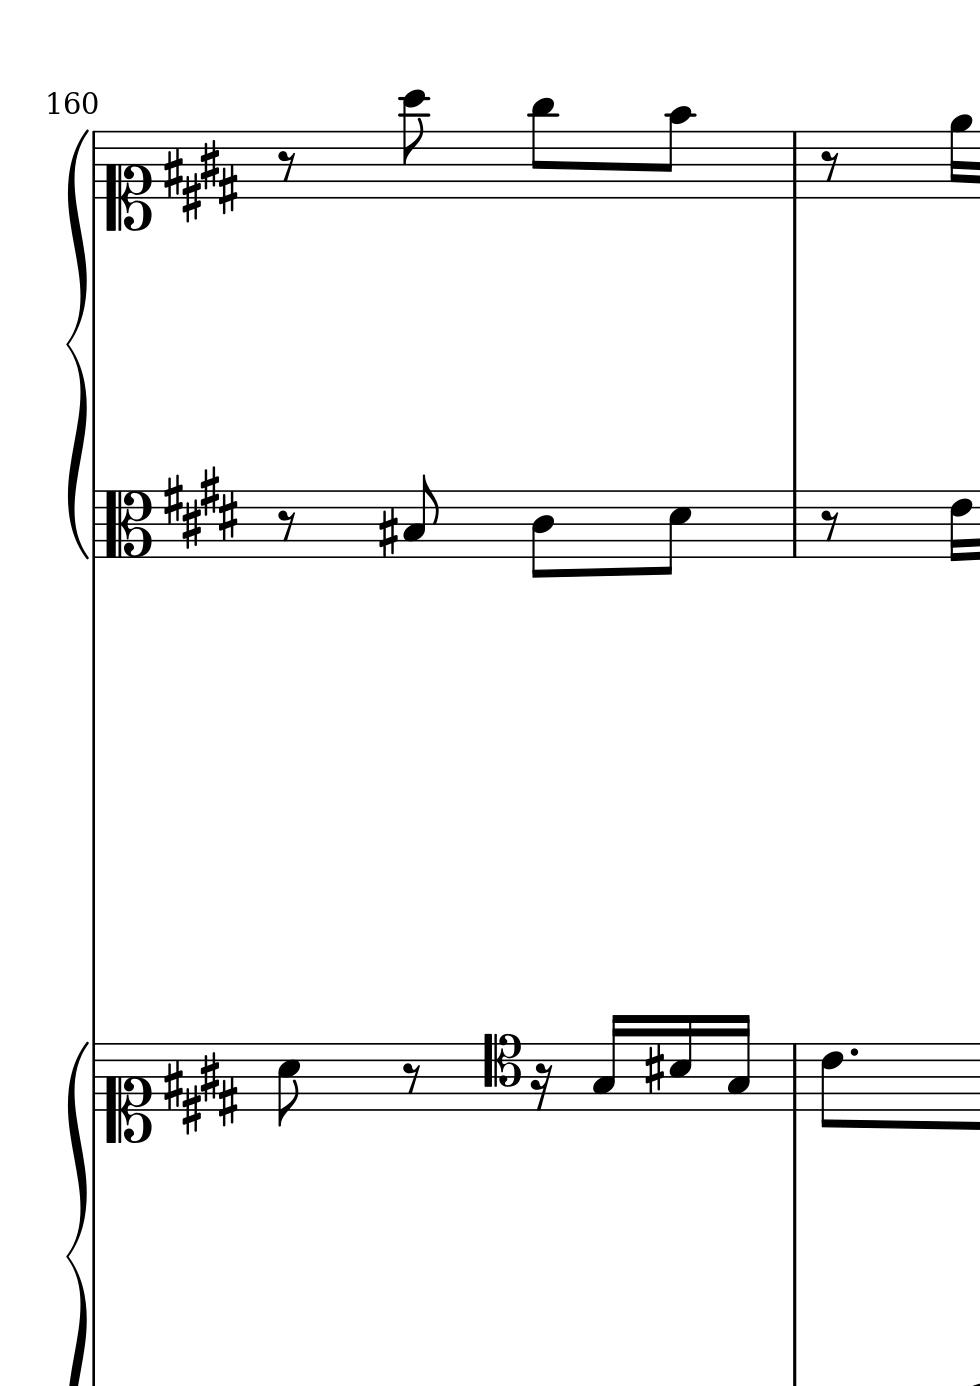0: (81, 88, 99, 118)
1: (46, 89, 60, 119)
16_3: (590, 1013, 623, 1113), (727, 1013, 752, 1112)
16_5: (668, 1012, 694, 1113)
16_6: (948, 488, 974, 563)
16_9: (947, 111, 972, 201)
6: (62, 89, 80, 118)
8_10: (655, 105, 693, 201)
8_11: (527, 95, 558, 201)
8_12: (399, 87, 428, 203)
8_3: (402, 472, 440, 558)
8_4: (529, 488, 554, 581)
8_5: (659, 488, 692, 577), (276, 1041, 301, 1127)
8_6: (819, 1041, 844, 1130)
Brace: (63, 120, 87, 564)
Cclef: (102, 488, 153, 560)
E_S: (163, 135, 238, 224), (163, 1051, 238, 1135), (163, 466, 235, 550)
Rests16: (529, 1062, 554, 1113)
Rests8: (817, 507, 840, 544), (274, 148, 296, 183), (400, 1060, 422, 1095), (275, 507, 296, 542), (819, 150, 840, 182)
Sharp: (642, 1043, 665, 1095), (375, 506, 398, 558)
Single_barline: (785, 131, 803, 198), (785, 491, 803, 557), (786, 1043, 803, 1111), (87, 1043, 103, 1113), (87, 490, 102, 560), (88, 131, 102, 200)
Soprano_Cclef: (104, 128, 154, 234), (104, 1041, 153, 1145)
Tensor_Cclef: (480, 1031, 521, 1111)
dot: (847, 1043, 861, 1060)
